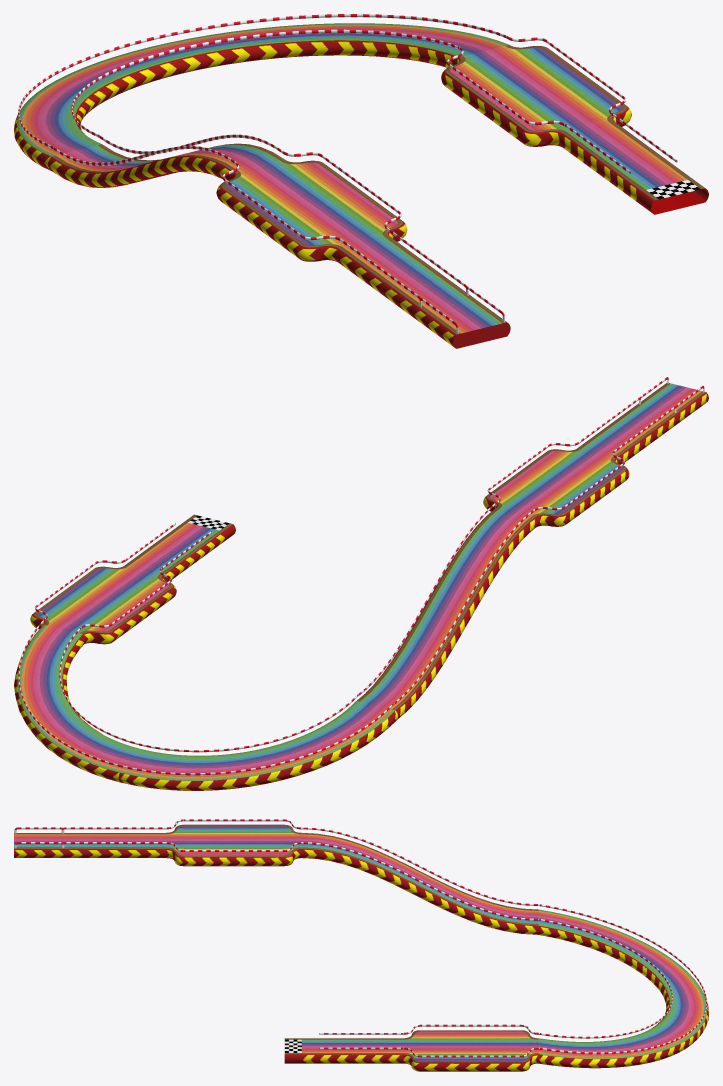
Rendered from map20_bonus.fbx.
The picture shows the model from 3 angles, top to bottom: view 1: azimuth 30°, elevation 25°; view 2: azimuth 150°, elevation 25°; view 3: azimuth 270°, elevation 25°; orthographic projection. The views are drawn at different scales.
Parts seen in each view (by area): view 1: Terrain_Right_Flat_Bar_5__1_, Terrain_Flat_Wide_Bar_3_1_8, Terrain_Flat_Wide_Bar_3_1_8_1.001, Terrain_Right_Flat_Bar_5, Terrain_CurveDown_Bar_2_8, Terrain_Flat_BarEnd_2_8, Terrain_Flat_BarStart_1_8, Dummy_Start_1, TerrainLink_Bar_1_1_8, TerrainLink_Bar_1_1__copy__8_1.001, Dummy_Finish_1, Pipe_052_1 (+7 smaller); view 2: Terrain_CurveDown_Bar_2_8, Terrain_Right_Flat_Bar_5, Terrain_Right_Flat_Bar_5__1_, Terrain_Flat_Wide_Bar_3_1_8_1.001, Terrain_Flat_Wide_Bar_3_1_8, Terrain_Flat_BarEnd_2_8, Terrain_Flat_BarStart_1_8, Dummy_Start_1, TerrainLink_Bar_1_1_8_1_1, TerrainLink_Bar_1_1__copy__8, Pipe_052, TerrainLink_Bar_1_1_8 (+1 smaller); view 3: Terrain_CurveDown_Bar_2_8, Terrain_Right_Flat_Bar_5__1_, Terrain_Right_Flat_Bar_5, Terrain_Flat_Wide_Bar_3_1_8, Terrain_Flat_Wide_Bar_3_1_8_1.001, Terrain_Flat_BarEnd_2_8, Terrain_Flat_BarStart_1_8, Dummy_Start_1, Pipe_1_056, Pipe_080, TerrainLink_Bar_1_1_8, TerrainLink_Bar_1_1_8_1_1 (+5 smaller).
Part boxes in pixels (bbox=[...]): Terrain_Right_Flat_Bar_5__1_: bbox=[151, 23, 509, 73]; Terrain_Flat_Wide_Bar_3_1_8: bbox=[218, 163, 401, 258]; Terrain_Flat_Wide_Bar_3_1_8_1.001: bbox=[443, 48, 625, 142]; Terrain_Right_Flat_Bar_5: bbox=[14, 47, 181, 170]; Terrain_CurveDown_Bar_2_8: bbox=[47, 143, 284, 187]; Terrain_Flat_BarEnd_2_8: bbox=[559, 121, 693, 204]; Terrain_Flat_BarStart_1_8: bbox=[335, 236, 465, 318]; Dummy_Start_1: bbox=[413, 294, 510, 348]; TerrainLink_Bar_1_1_8: bbox=[296, 220, 407, 261]; TerrainLink_Bar_1_1__copy__8_1.001: bbox=[521, 105, 631, 147]; Dummy_Finish_1: bbox=[638, 178, 708, 214]; Pipe_052_1: bbox=[151, 14, 506, 40]; Terrain_CurveDown_Bar_2_8: bbox=[357, 507, 538, 719]; Terrain_Right_Flat_Bar_5: bbox=[118, 701, 397, 790]; Terrain_Right_Flat_Bar_5__1_: bbox=[14, 624, 141, 782]; Terrain_Flat_Wide_Bar_3_1_8_1.001: bbox=[34, 568, 175, 640]; Terrain_Flat_Wide_Bar_3_1_8: bbox=[487, 451, 628, 523]; Terrain_Flat_BarEnd_2_8: bbox=[124, 522, 225, 581]; Terrain_Flat_BarStart_1_8: bbox=[577, 404, 678, 464]; Dummy_Start_1: bbox=[637, 383, 708, 423]; TerrainLink_Bar_1_1_8_1_1: bbox=[30, 612, 114, 644]; TerrainLink_Bar_1_1__copy__8: bbox=[483, 495, 567, 527]; Pipe_052: bbox=[120, 703, 393, 775]; TerrainLink_Bar_1_1_8: bbox=[548, 448, 629, 478]; Terrain_CurveDown_Bar_2_8: bbox=[301, 833, 538, 934]; Terrain_Right_Flat_Bar_5__1_: bbox=[538, 1003, 708, 1068]; Terrain_Right_Flat_Bar_5: bbox=[537, 909, 708, 1011]; Terrain_Flat_Wide_Bar_3_1_8: bbox=[183, 824, 284, 866]; Terrain_Flat_Wide_Bar_3_1_8_1.001: bbox=[420, 1030, 521, 1071]; Terrain_Flat_BarEnd_2_8: bbox=[301, 1038, 403, 1063]; Terrain_Flat_BarStart_1_8: bbox=[64, 833, 166, 857]; Dummy_Start_1: bbox=[14, 833, 64, 857]; Pipe_1_056: bbox=[301, 842, 538, 920]; Pipe_080: bbox=[301, 827, 538, 905]; TerrainLink_Bar_1_1_8: bbox=[166, 824, 183, 865]; TerrainLink_Bar_1_1_8_1_1: bbox=[521, 1030, 538, 1071].
Bounding box in the file's own units: 4562 × 1549 × 8214.
